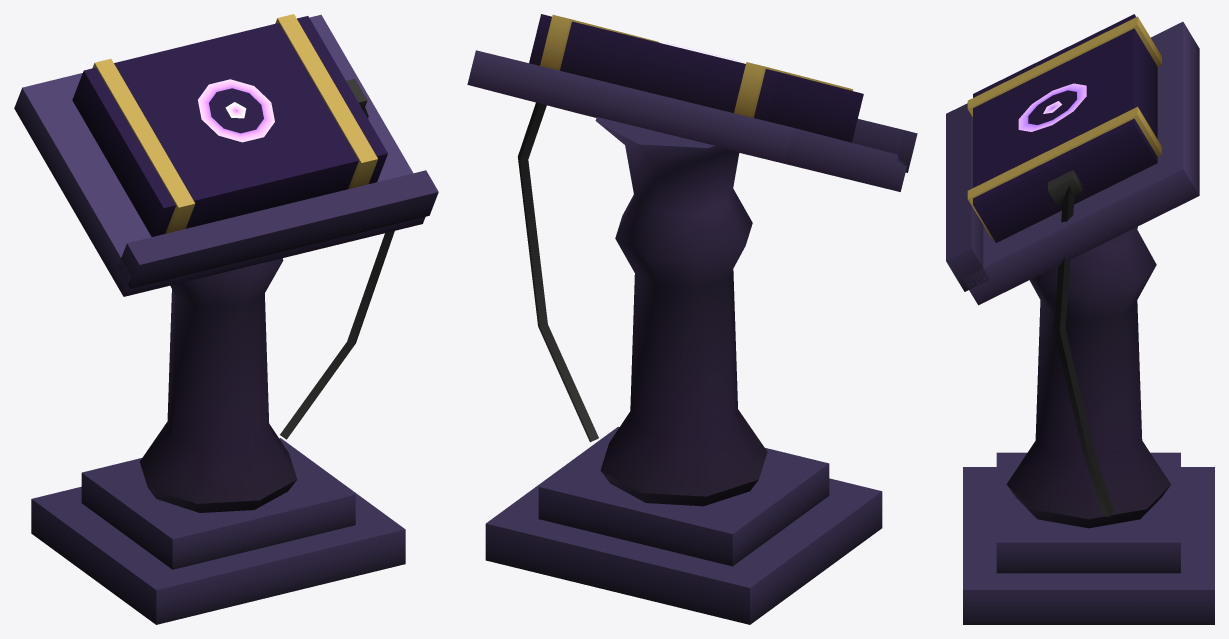
The model's file is lectern.glb.
3 views of the same model, side by side, from view 1: azimuth 30°, elevation 25°; view 2: azimuth 150°, elevation 25°; view 3: azimuth 270°, elevation 25° (orthographic). The views are drawn at different scales.
Parts seen in each view (by area): view 1: lectern_trim, lectern_glow; view 2: lectern_trim; view 3: lectern_trim, lectern_glow.
Part boxes in pixels (<box>): lectern_trim: <box>14,14,438,624</box>; lectern_glow: <box>198,79,274,142</box>; lectern_trim: <box>467,14,917,624</box>; lectern_trim: <box>946,14,1214,624</box>; lectern_glow: <box>1018,83,1086,131</box>.
Bounding box in the file's own units: 0.386 × 0.5667 × 0.2773.
